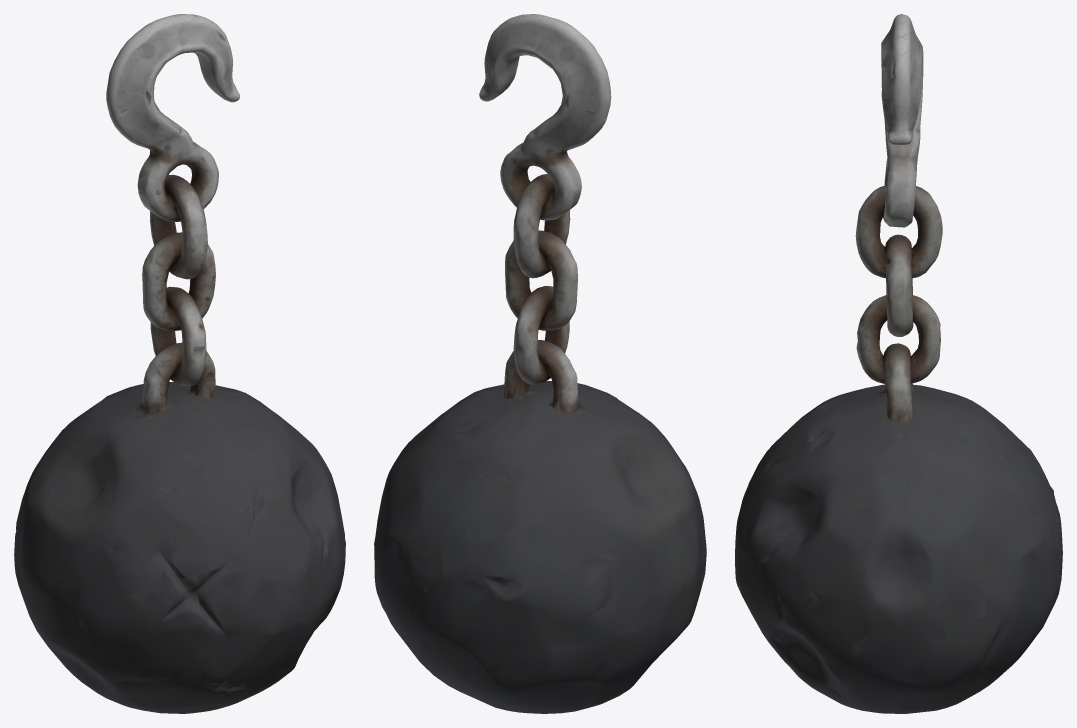
The model's file is wrecking_ball.glb.
3 renders of one model, left to right at view 1: azimuth 30°, elevation 25°; view 2: azimuth 150°, elevation 25°; view 3: azimuth 270°, elevation 25°, orthographic.
Bounding box in the file's own units: 0.8412 × 1.9 × 0.8395.
1 material, 1 textured.
